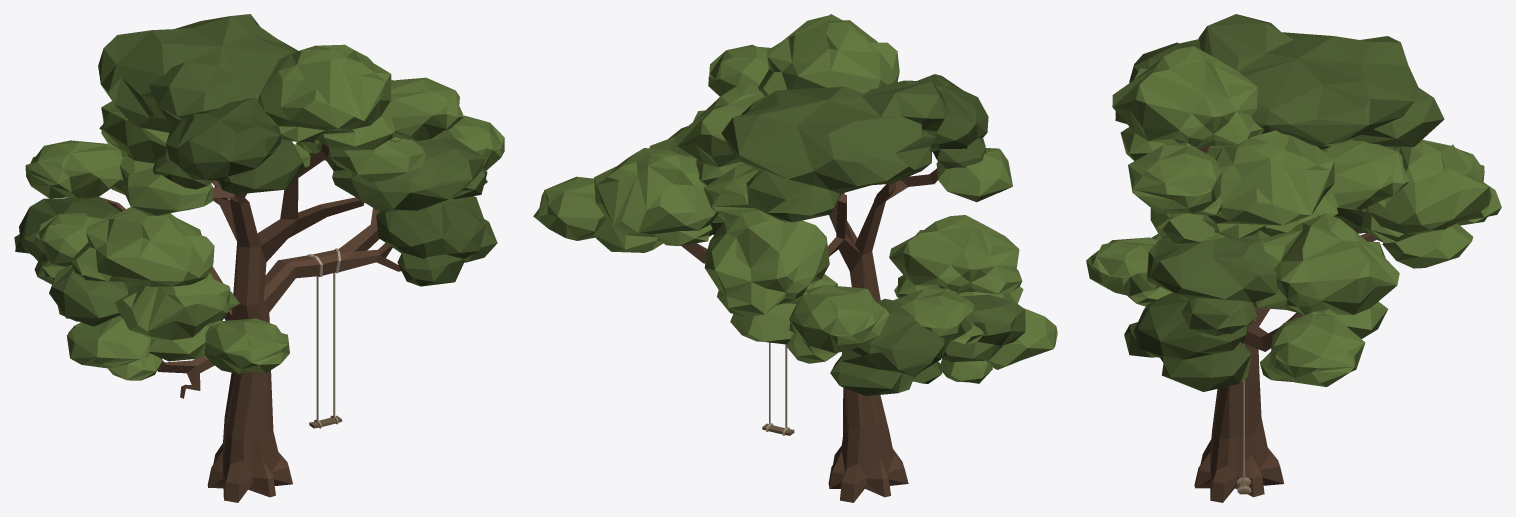
The model's file is sc-farm-tree.glb.
3 views of the same model, side by side, from view 1: azimuth 30°, elevation 25°; view 2: azimuth 150°, elevation 25°; view 3: azimuth 270°, elevation 25° (orthographic). The views are drawn at different scales.
Visible parts, largest first — view 1: SM_Env_Tree_Large_01, SM_Env_Tree_Large_Swing_01; view 2: SM_Env_Tree_Large_01, SM_Env_Tree_Large_Swing_01; view 3: SM_Env_Tree_Large_01.
Boxes of the visible parts, x1,y1,x2,y2 form: SM_Env_Tree_Large_01: [14, 14, 504, 502]; SM_Env_Tree_Large_Swing_01: [309, 272, 342, 428]; SM_Env_Tree_Large_01: [533, 14, 1057, 502]; SM_Env_Tree_Large_Swing_01: [762, 342, 794, 435]; SM_Env_Tree_Large_01: [1086, 14, 1501, 502].
Size of the model in its own units: 17.84 by 16 by 13.07.
Materials: 1 (1 with a texture image).
